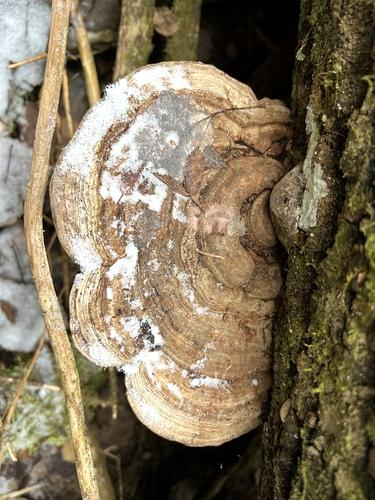Ganoderma - Fruit Body: (40, 56, 311, 453)
